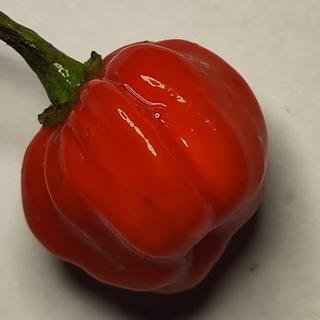Grade-B: (17, 34, 274, 298)
